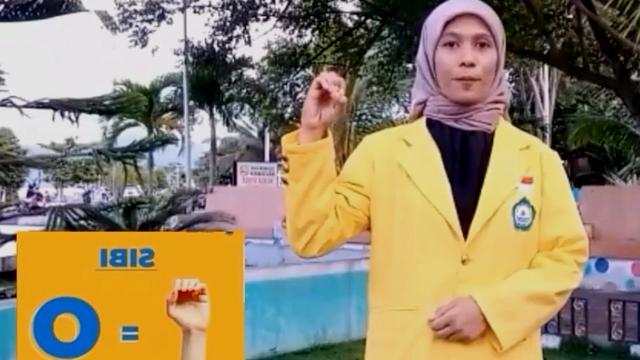O: (292, 68, 356, 132)
